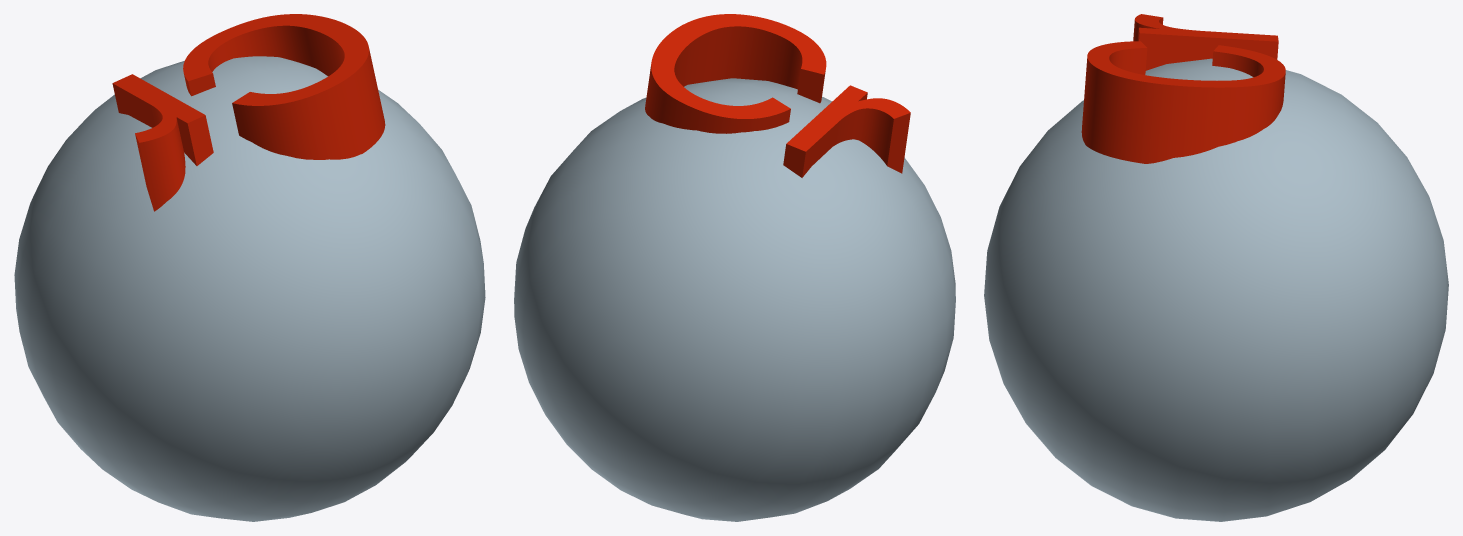
The picture shows the model from 3 angles, left to right: view 1: azimuth 30°, elevation 25°; view 2: azimuth 150°, elevation 25°; view 3: azimuth 270°, elevation 25°; orthographic projection. The views are drawn at different scales.
Parts seen in each view (by area): view 1: Cr; view 2: Cr; view 3: Cr.
Boxes of the visible parts, x1,y1,x2,y2 form: Cr: (14, 14, 485, 521); Cr: (514, 14, 955, 521); Cr: (984, 14, 1448, 521).
Size of the model in its own units: 38.69 by 42.09 by 38.72.
